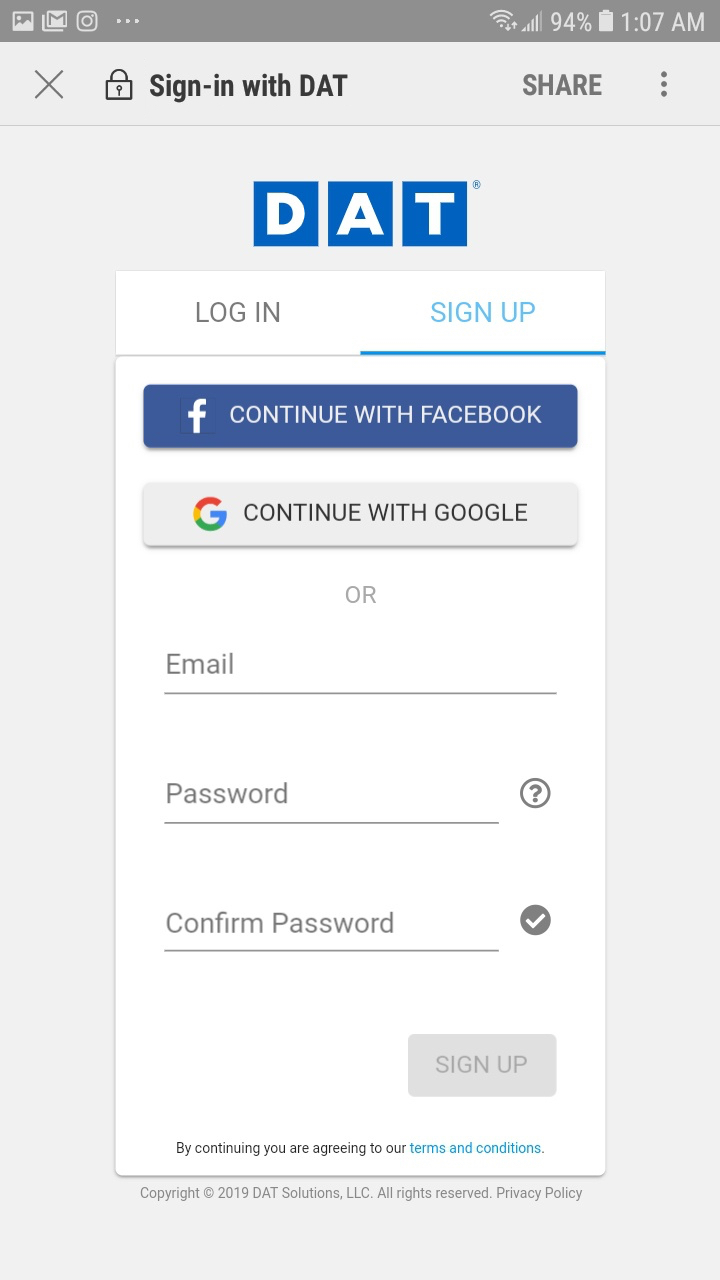EditText: (165, 653, 558, 696), (164, 782, 500, 825), (164, 911, 500, 953)
Icon: (519, 778, 551, 809), (520, 905, 552, 936), (105, 70, 134, 102), (35, 70, 65, 100), (660, 71, 668, 99)
Image: (253, 180, 482, 248)
Text: (141, 1186, 583, 1202), (150, 73, 349, 104), (177, 1141, 545, 1157), (166, 911, 394, 934), (167, 782, 288, 804), (431, 301, 536, 323), (523, 73, 603, 97), (196, 301, 280, 323), (167, 652, 234, 676), (346, 585, 377, 604)
TextButton: (142, 482, 579, 548), (144, 384, 579, 449), (408, 1034, 557, 1098)
UpperTaskBar: (1, 1, 720, 43)
